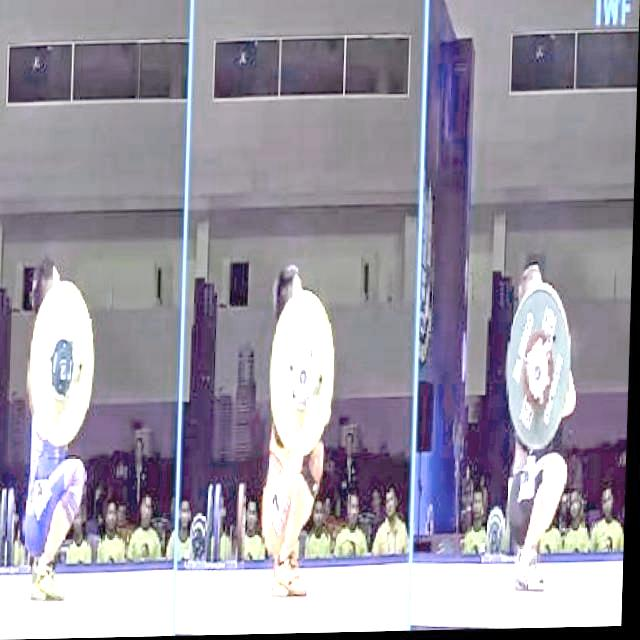barbell: (22, 278, 108, 450), (502, 282, 580, 457), (267, 287, 342, 460)
